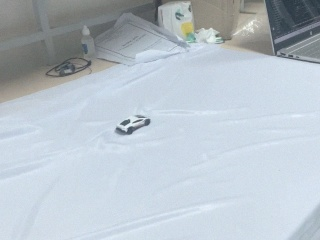bottle: (81, 26, 96, 60)
box: (158, 1, 195, 41)
toy_car: (115, 115, 151, 135)
